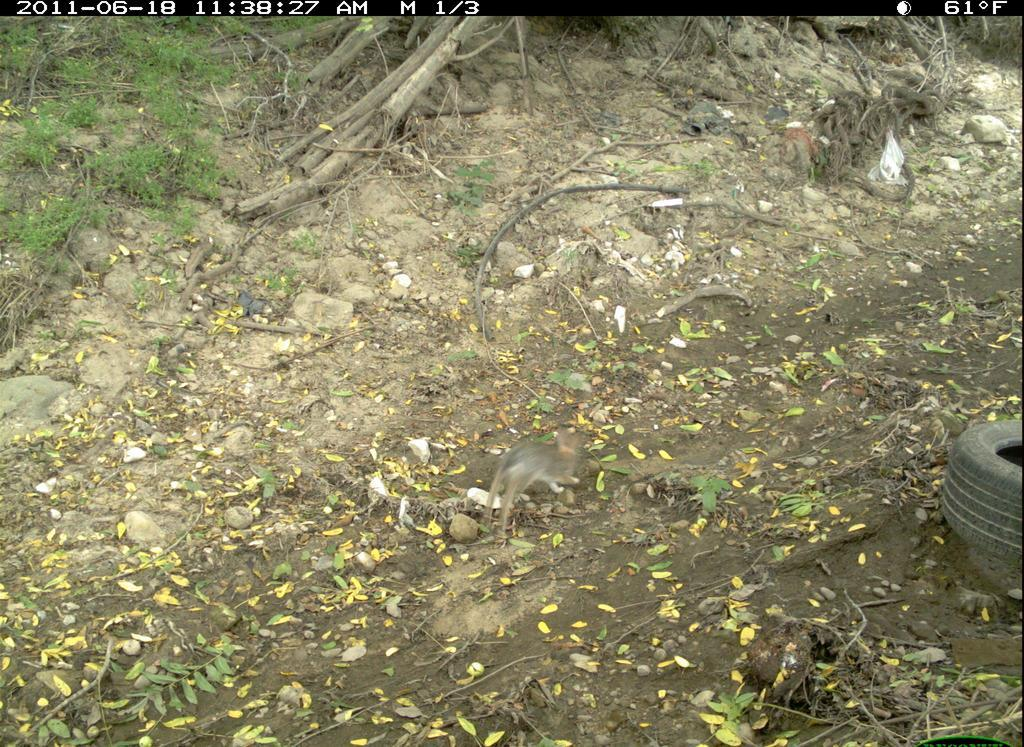rabbit: (457, 422, 623, 543)
